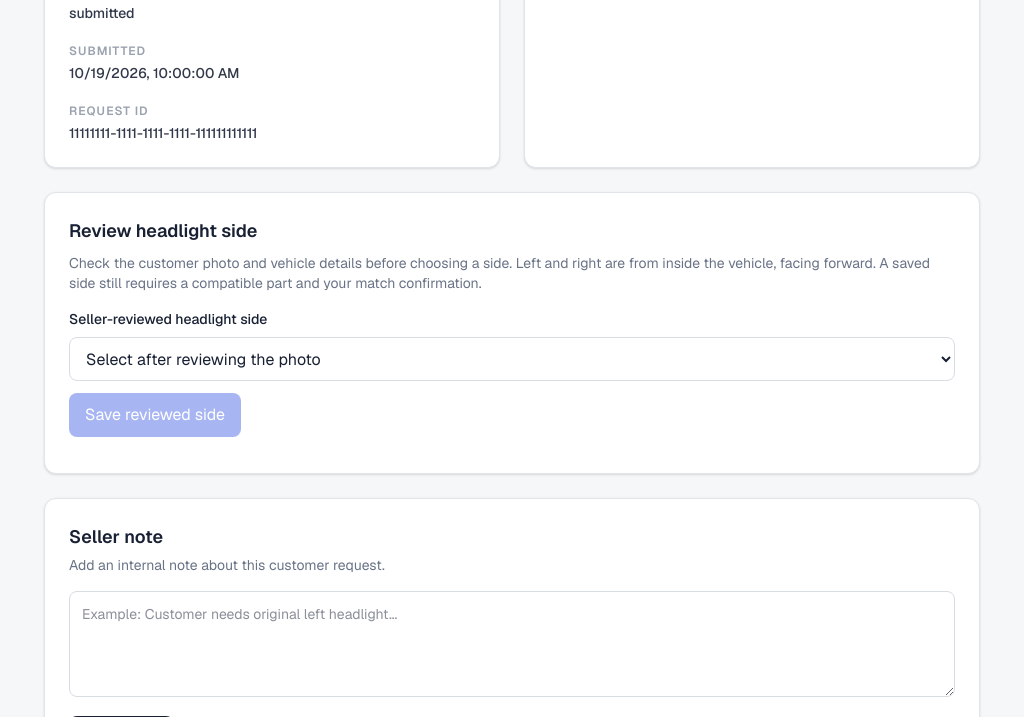
Scenario: reports a saved side separately from failed inventory refresh and recovers on retry
(page scrolled)
Select "Vehicle right" in the dropdown labelled "Seller-reviewed headlight side" at (512, 359), box [69,337,955,381]
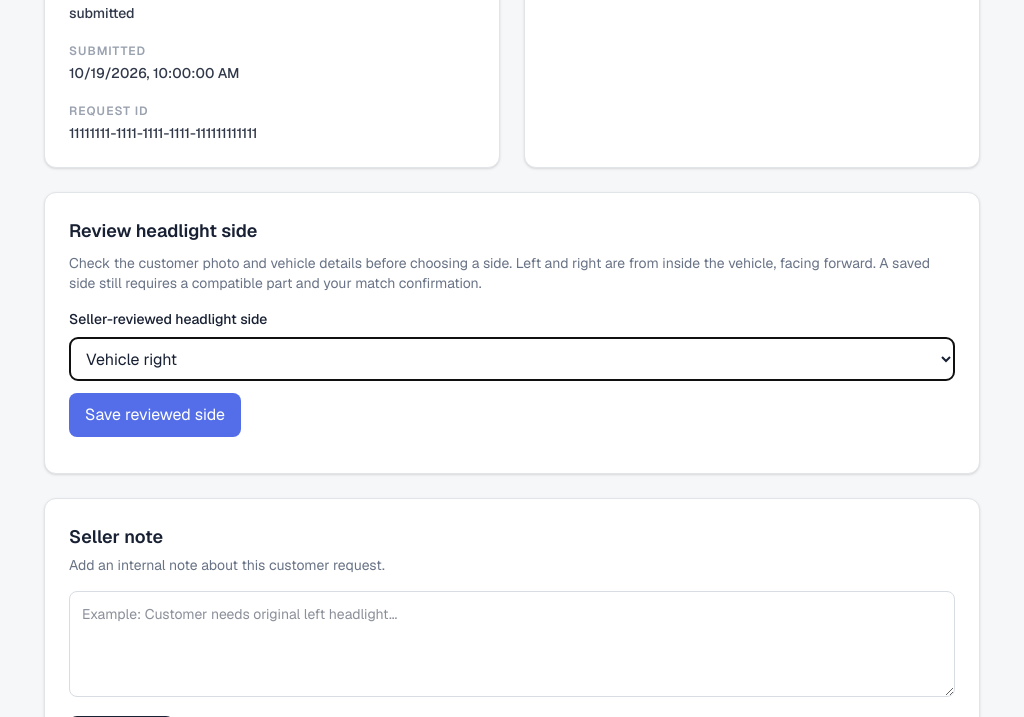
Click the button "Save reviewed side" at (155, 415), box [69,393,241,437]
(page scrolled)
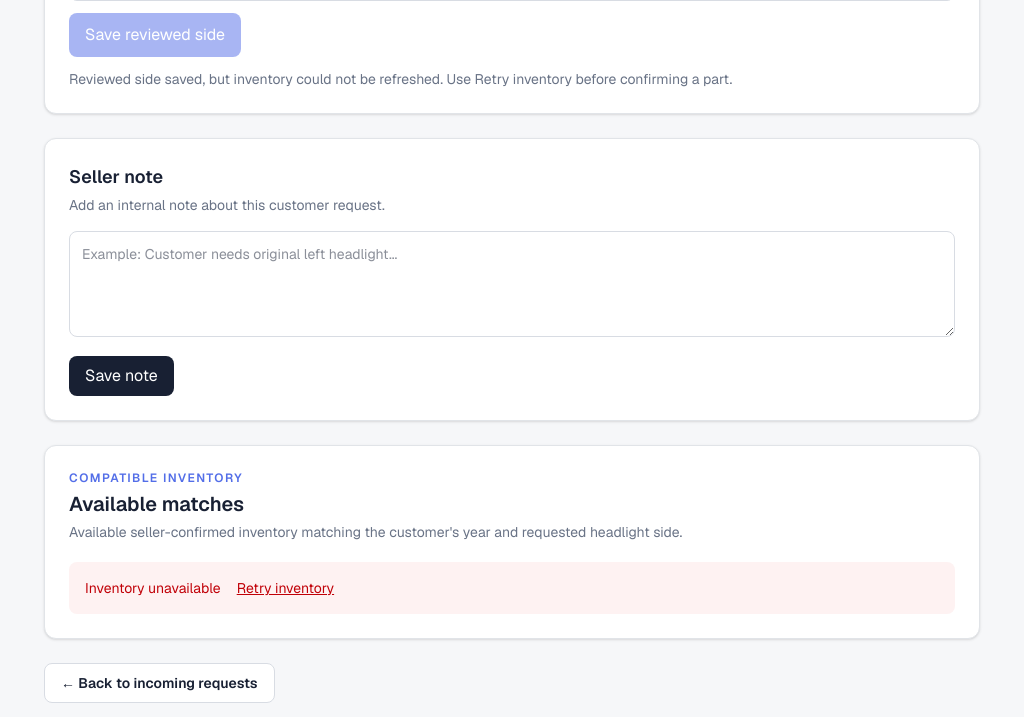
Expected: the button "Confirm part" is not shown
Result: the text "Reviewed side saved, but inventory could not be refreshed" is shown at [69,70,732,88]
Click the button "Retry inventory" at (285, 588), box [237,578,334,598]
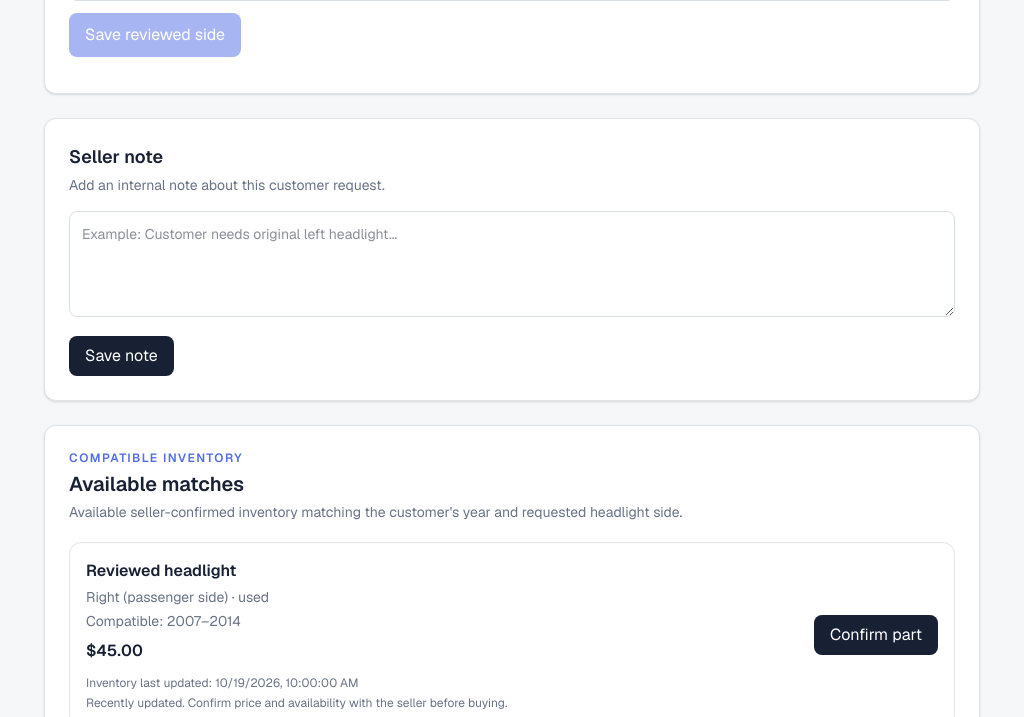
Result: the button "Confirm part" is enabled at [814,615,938,655]
Result: the text "inventory could not be refreshed" is gone
